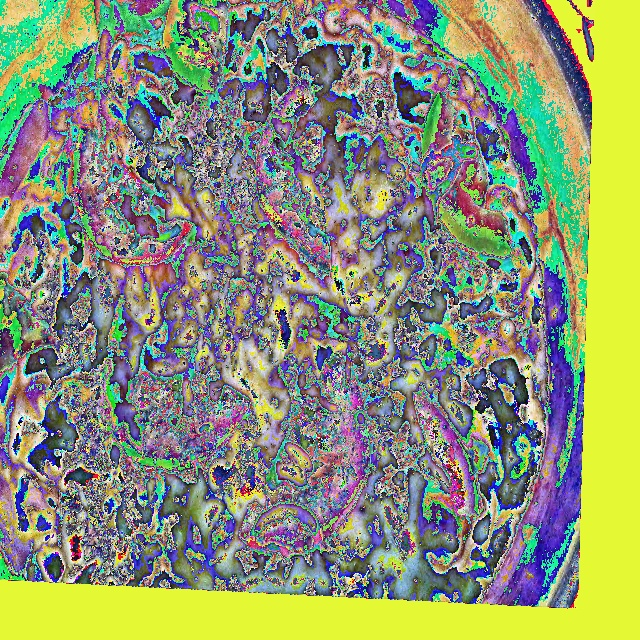background: (0, 0, 552, 604)
